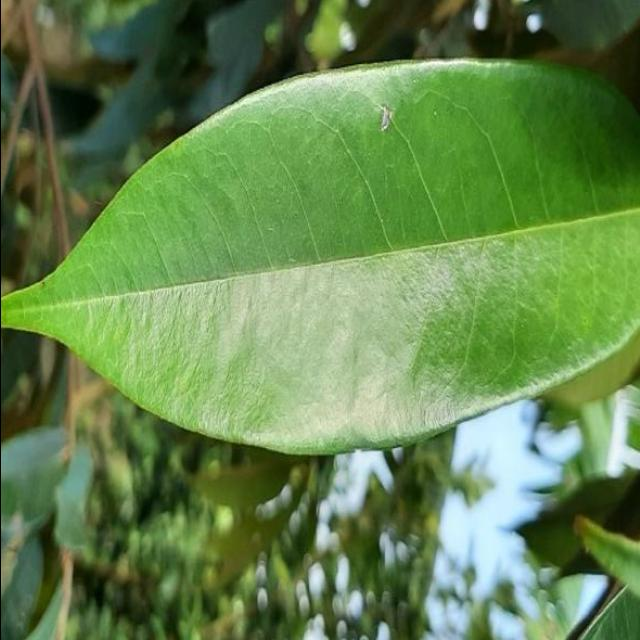No Disease: (0, 46, 640, 462)
